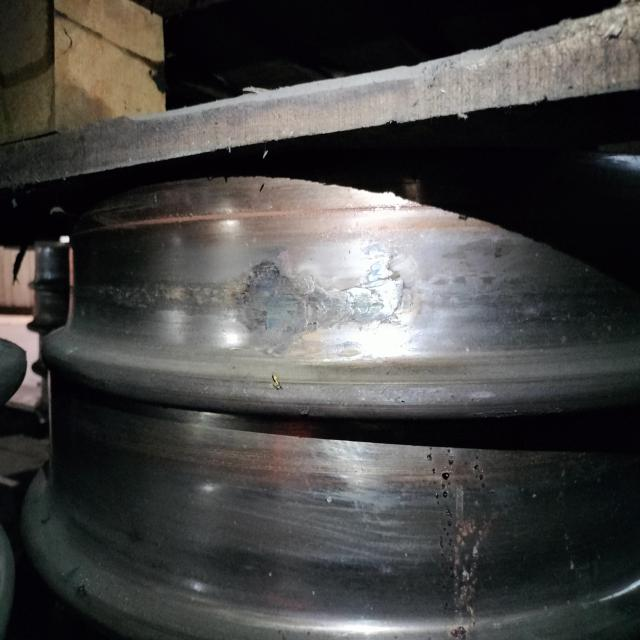flat: (86, 237, 467, 338)
